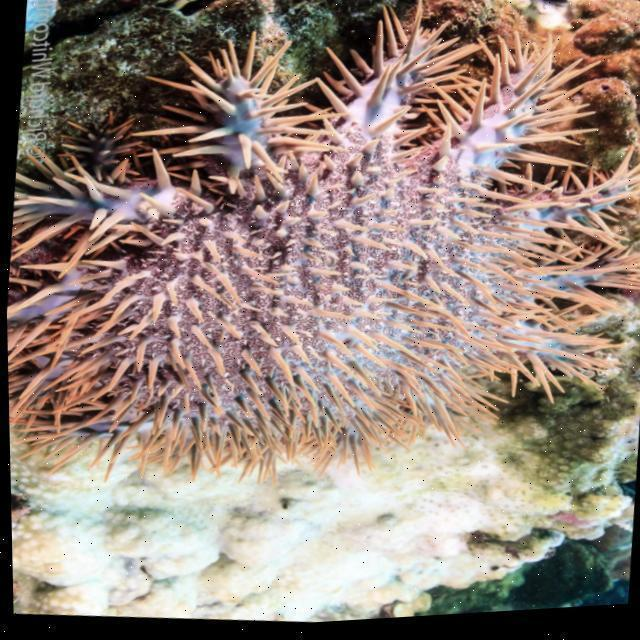Bleached Coral: (8, 418, 633, 640)
